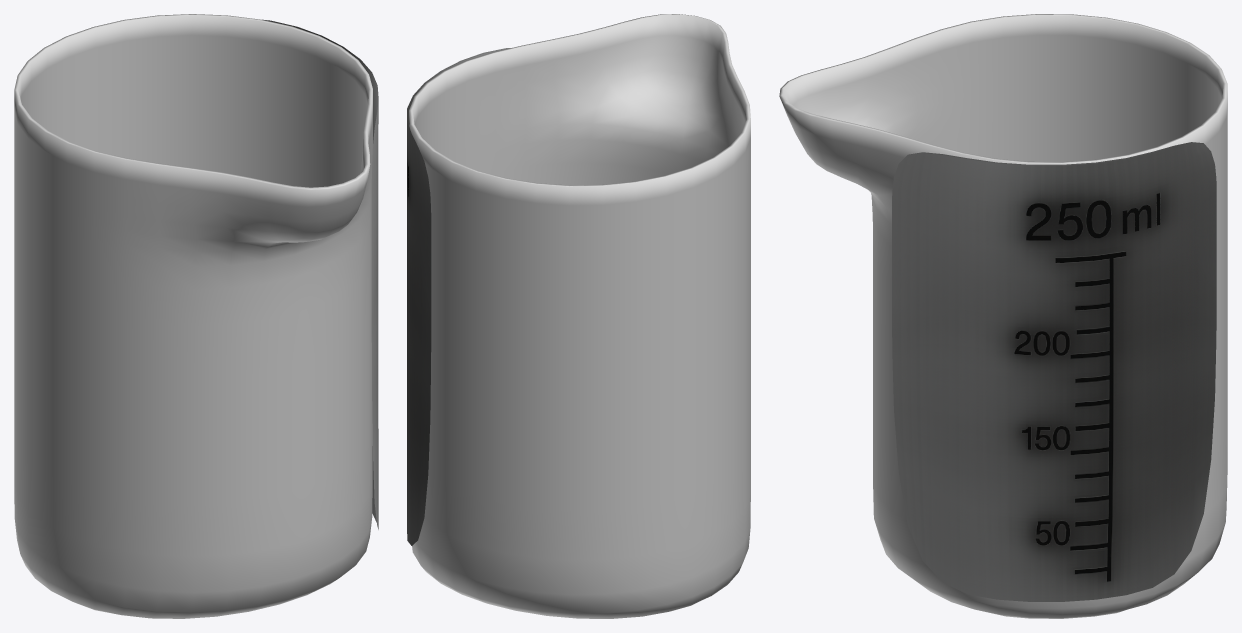
File: Beaker glass 250.fbx
The picture shows the model from 3 angles, left to right: view 1: azimuth 30°, elevation 25°; view 2: azimuth 150°, elevation 25°; view 3: azimuth 270°, elevation 25°; orthographic projection. The views are drawn at different scales.
Visible parts, largest first — view 1: Cube.051, Cube.022; view 2: Cube.051, Cube.022; view 3: Cube.022, Cube.051.
Boxes of the visible parts, x1,y1,x2,y2 form: Cube.051: (14, 14, 372, 618); Cube.022: (262, 19, 378, 529); Cube.051: (409, 14, 750, 618); Cube.022: (407, 48, 510, 545); Cube.022: (892, 142, 1216, 601); Cube.051: (779, 14, 1227, 618).
Size of the model in its own units: 0.0866 by 0.1254 by 0.1088.
Materials: 2 (1 with a texture image).
